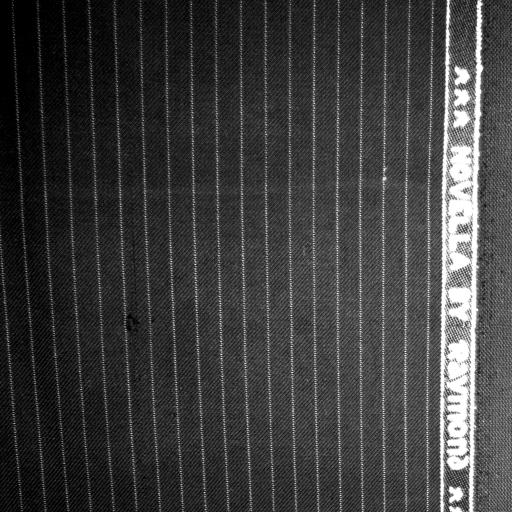fabric_hole: (123, 306, 143, 342)
